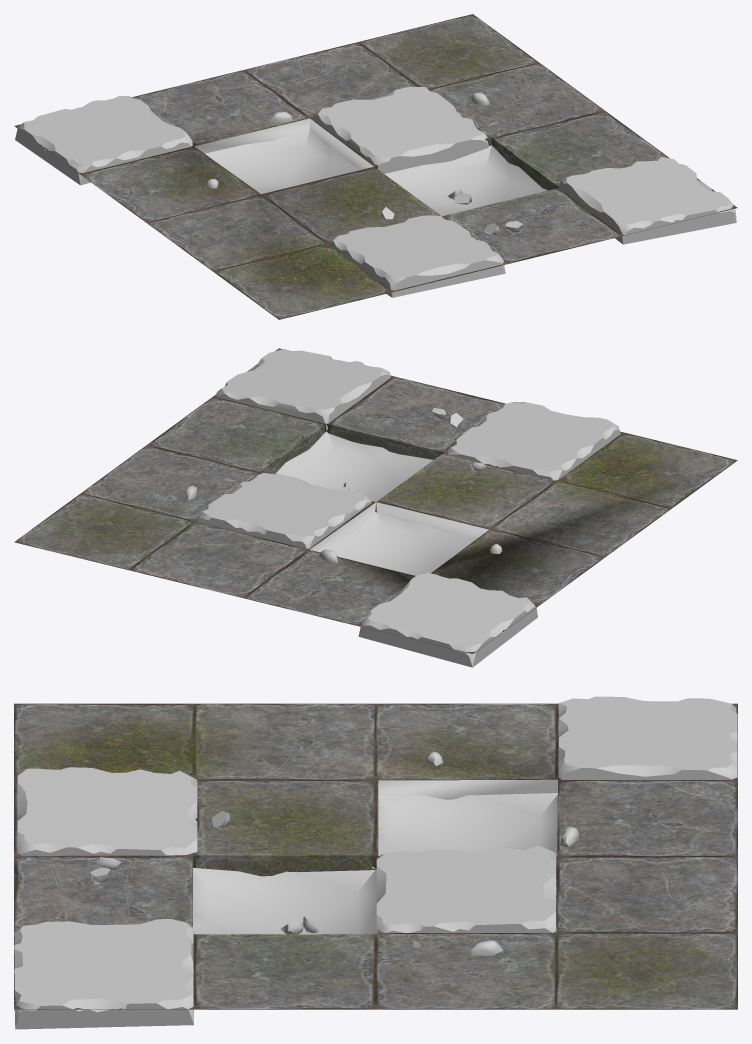
The model's file is Floor_Lvl2_10.fbx.
3 renders of one model, top to bottom at view 1: azimuth 30°, elevation 25°; view 2: azimuth 150°, elevation 25°; view 3: azimuth 270°, elevation 25°, orthographic. The views are drawn at different scales.
Visible parts, largest first — view 1: StoneFloor.006; view 2: StoneFloor.006; view 3: StoneFloor.006.
Boxes of the visible parts, box(x1,y1,x2,y2) form: StoneFloor.006: box(14, 14, 737, 319); StoneFloor.006: box(14, 348, 737, 667); StoneFloor.006: box(14, 696, 737, 1029).
Bounding box in the file's own units: 382 × 31.87 × 382.
